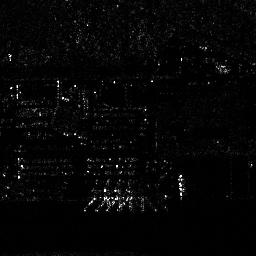ship: (176, 172, 185, 199)
